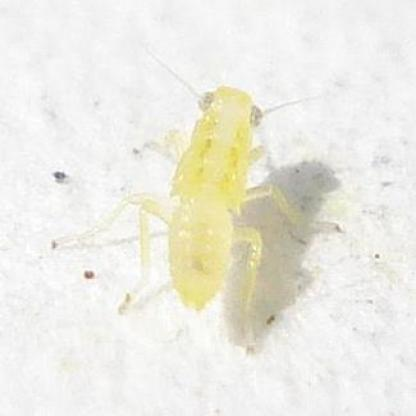green-leafhopper: (157, 77, 270, 306)
